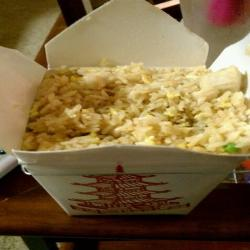rice: (22, 65, 249, 165)
